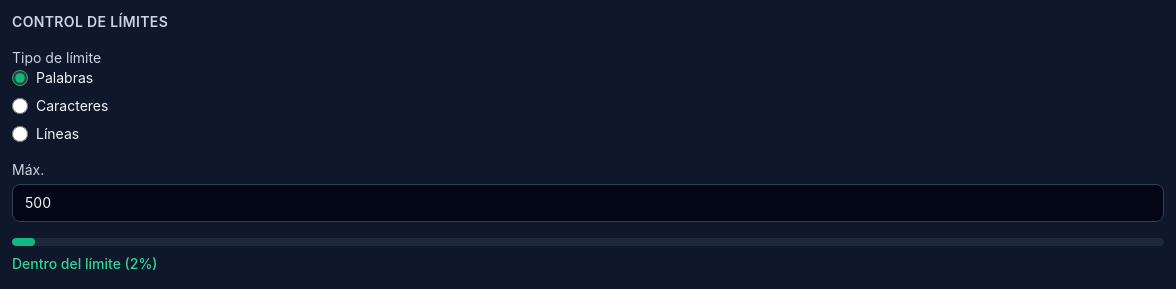
Test: LimitsPanel › recalculates the status when the limit type changes
This screenshot has width=1176, height=289.
Expected: the text "Dentro del límite (2%)" is shown, [12, 255, 158, 272]
Click the radio button labelled "Caracteres". click: (20, 106)
box: [12, 98, 28, 114]
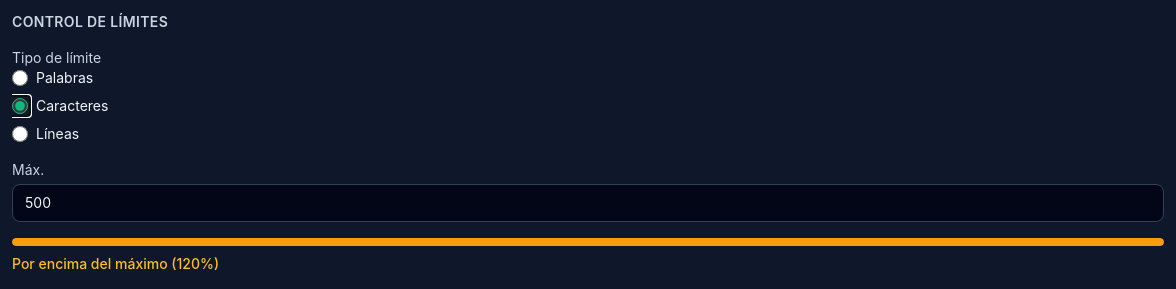
Expected: the text "Por encima del máximo (120%)" is shown, [12, 255, 219, 272]
